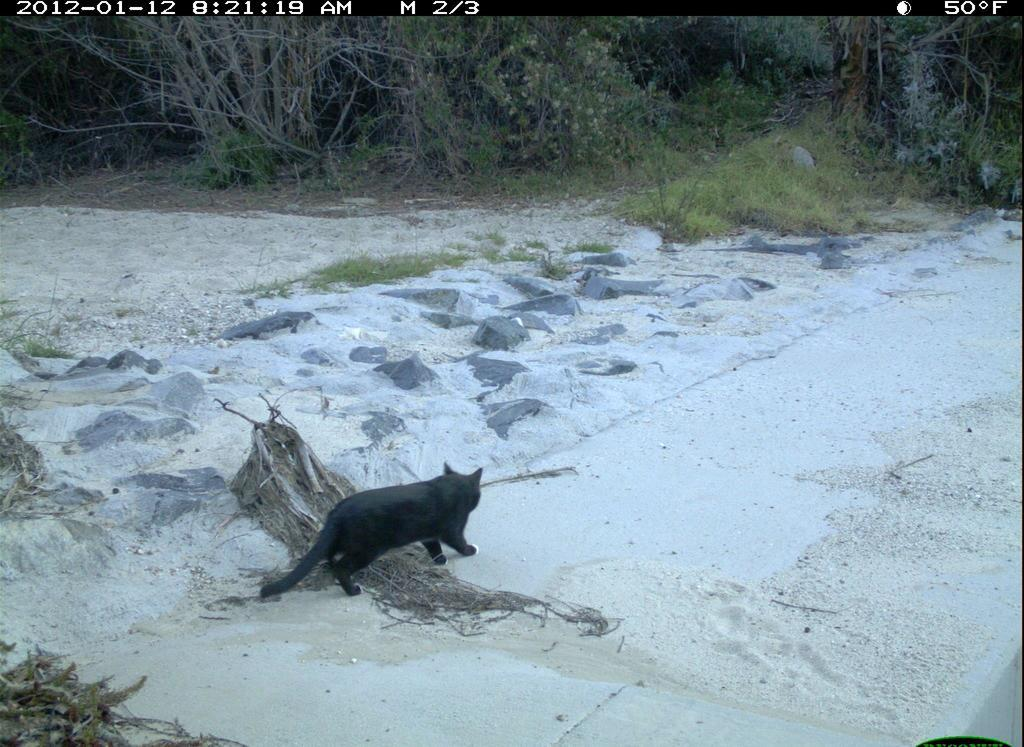cat: (253, 460, 501, 612)
